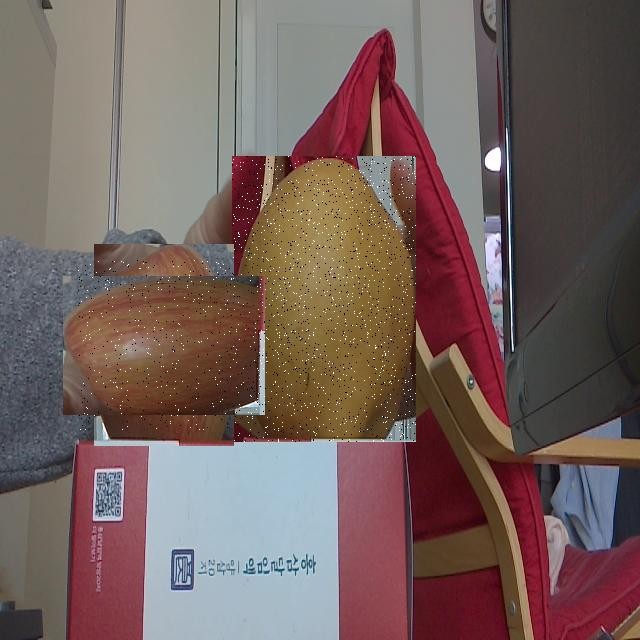apple: (78, 260, 250, 430)
pear: (232, 156, 416, 442)
